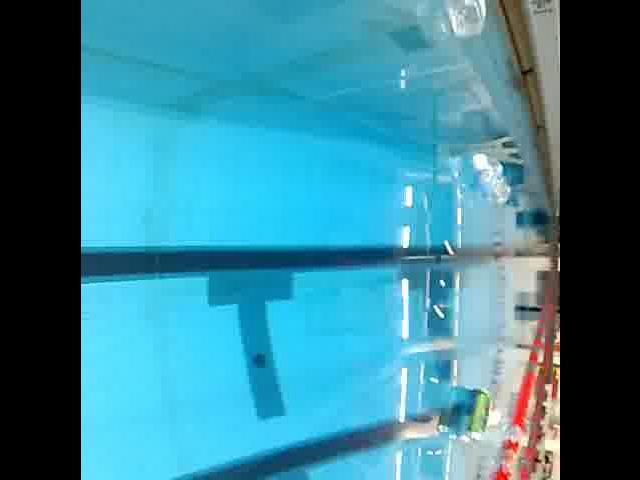Bottle: (465, 152, 513, 208), (441, 0, 493, 40)
Can: (458, 382, 494, 444)
